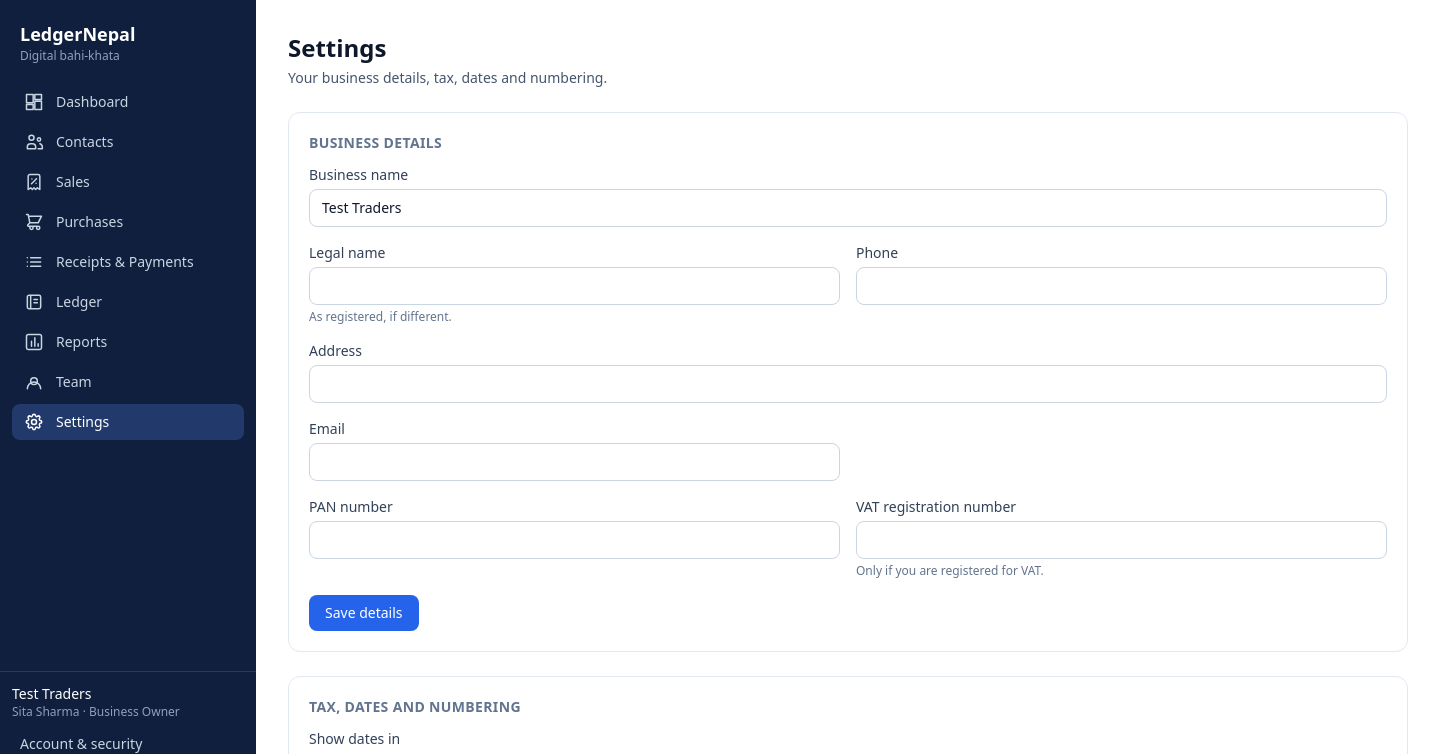
it: Settings › shows the server’s message next to the field and keeps what was typed
Type "nope" into the field labelled "Email". click: (574, 462)
box: 309,443 -> 840,481
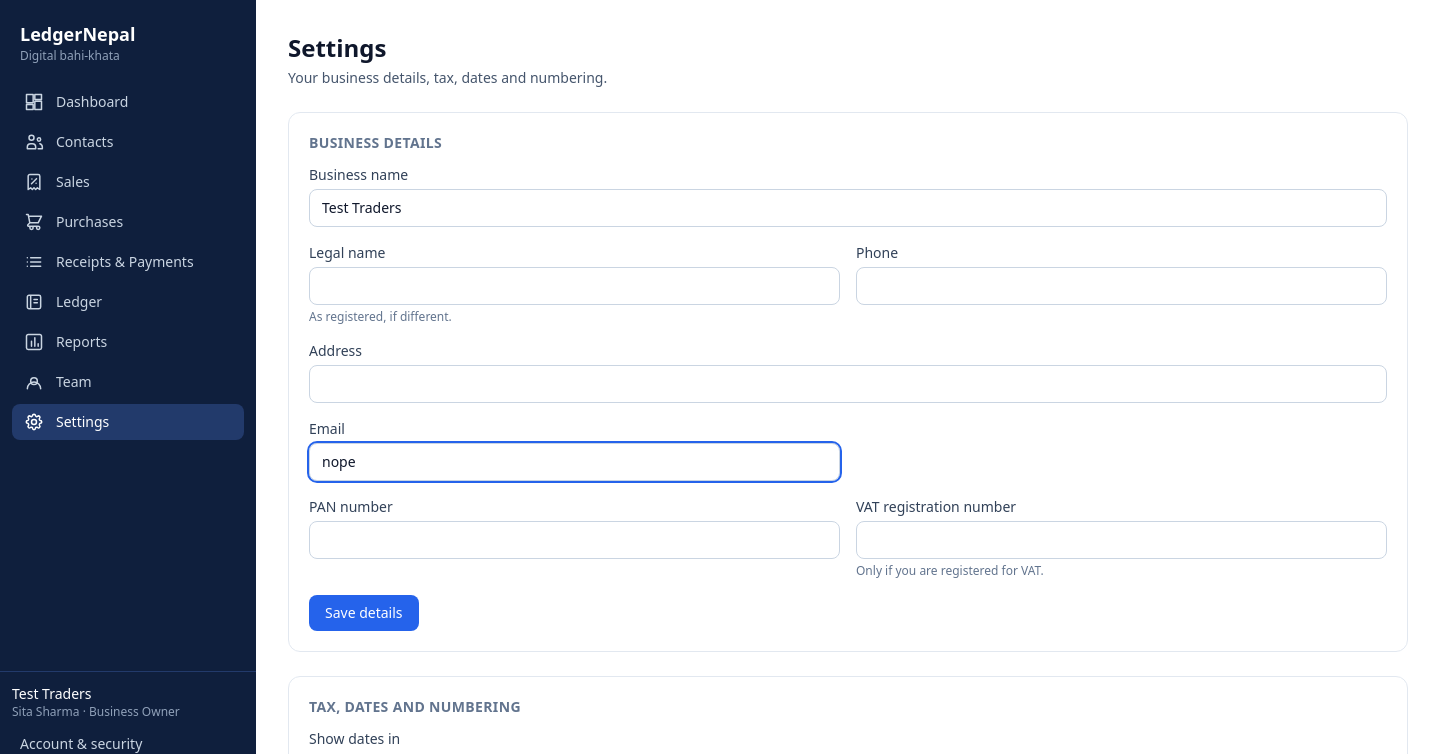
Click the button "Save details". click: (364, 613)
box: 309,595 -> 418,631
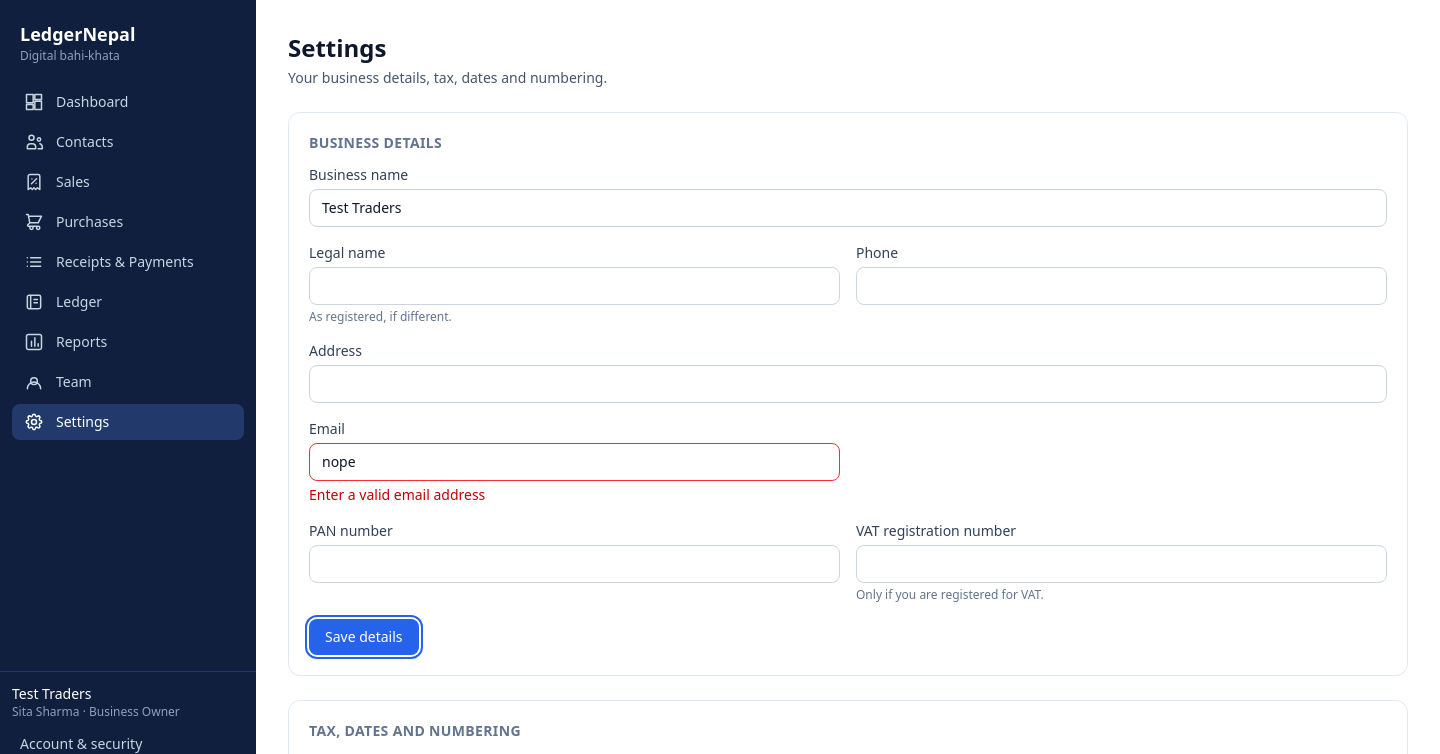
Expected: the text "Enter a valid email address" is shown, 309,485 -> 485,504
